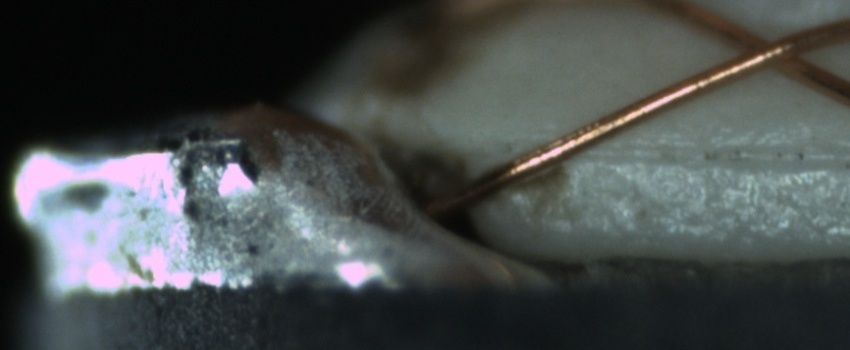CL: (715, 17, 823, 81)
DL: (565, 118, 843, 189)
